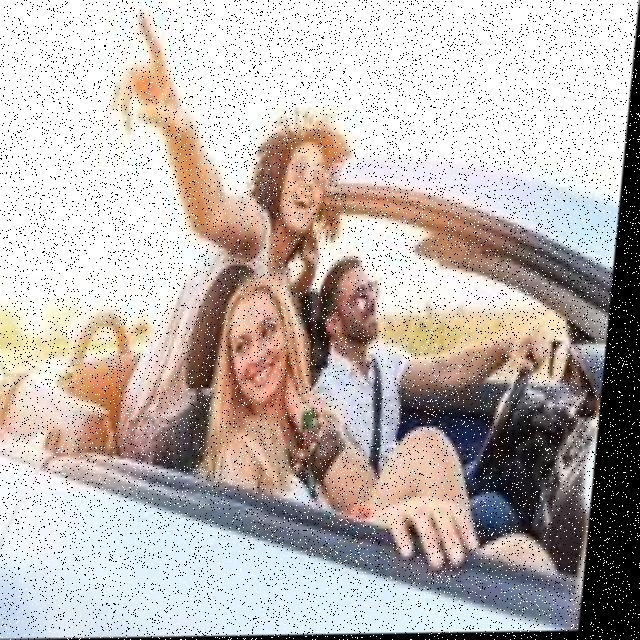seatbelt: (325, 351, 421, 484)
